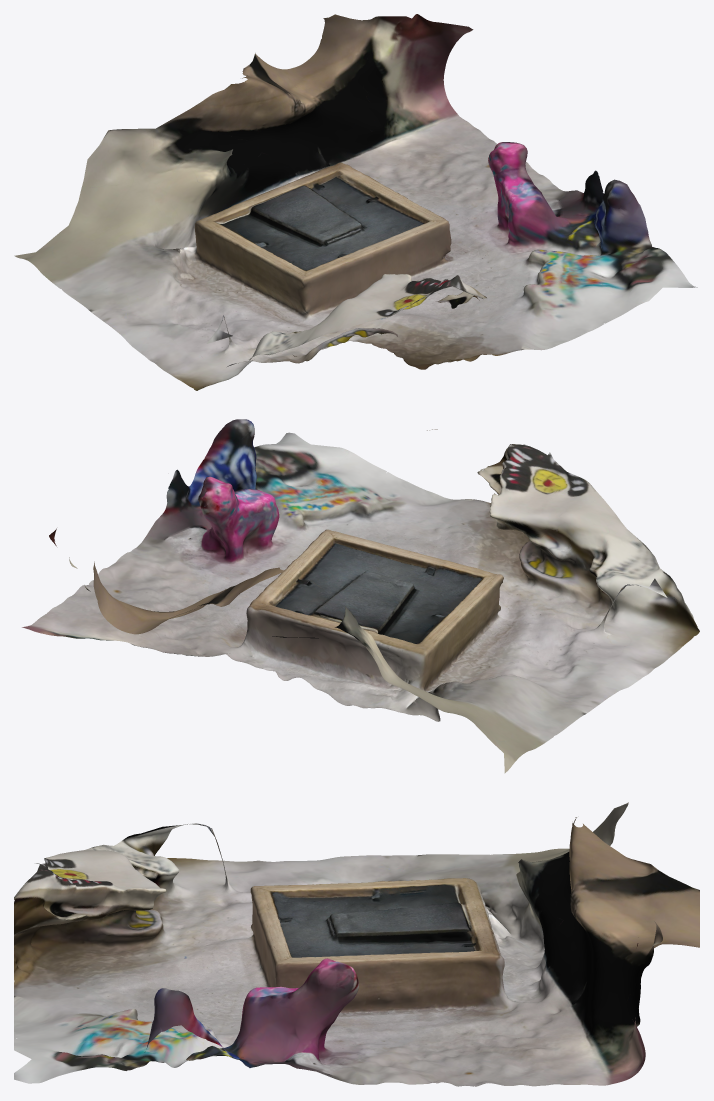
The picture shows the model from 3 angles, top to bottom: view 1: azimuth 30°, elevation 25°; view 2: azimuth 150°, elevation 25°; view 3: azimuth 270°, elevation 25°; orthographic projection. The views are drawn at different scales.
Bounding box in the file's own units: 2.19 × 0.6417 × 2.37.
1 material, 1 textured.
